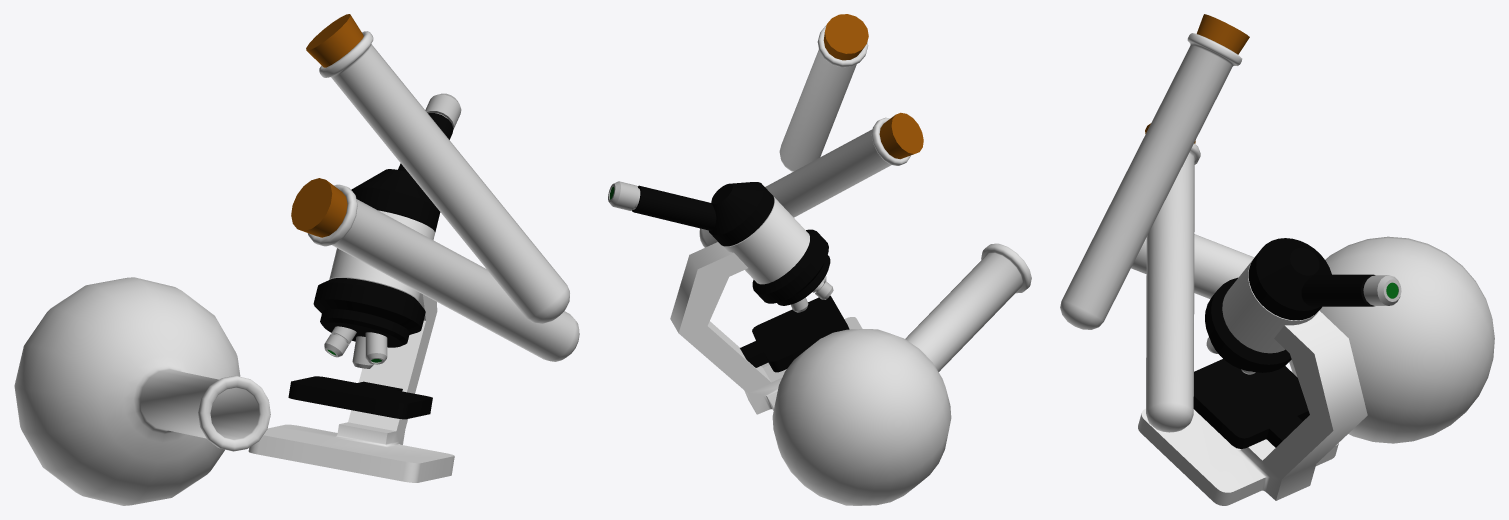
The model's file is AreaSelect_science.fbx.
3 views of the same model, side by side, from view 1: azimuth 30°, elevation 25°; view 2: azimuth 150°, elevation 25°; view 3: azimuth 270°, elevation 25° (orthographic). The views are drawn at different scales.
Visible parts, largest first — view 1: science; view 2: science; view 3: science.
Part boxes in pixels (bbox=[...]): science: bbox=[14, 14, 579, 505]; science: bbox=[608, 14, 1031, 505]; science: bbox=[1060, 14, 1494, 505].
Size of the model in its own units: 37.43 by 43.54 by 36.43.
